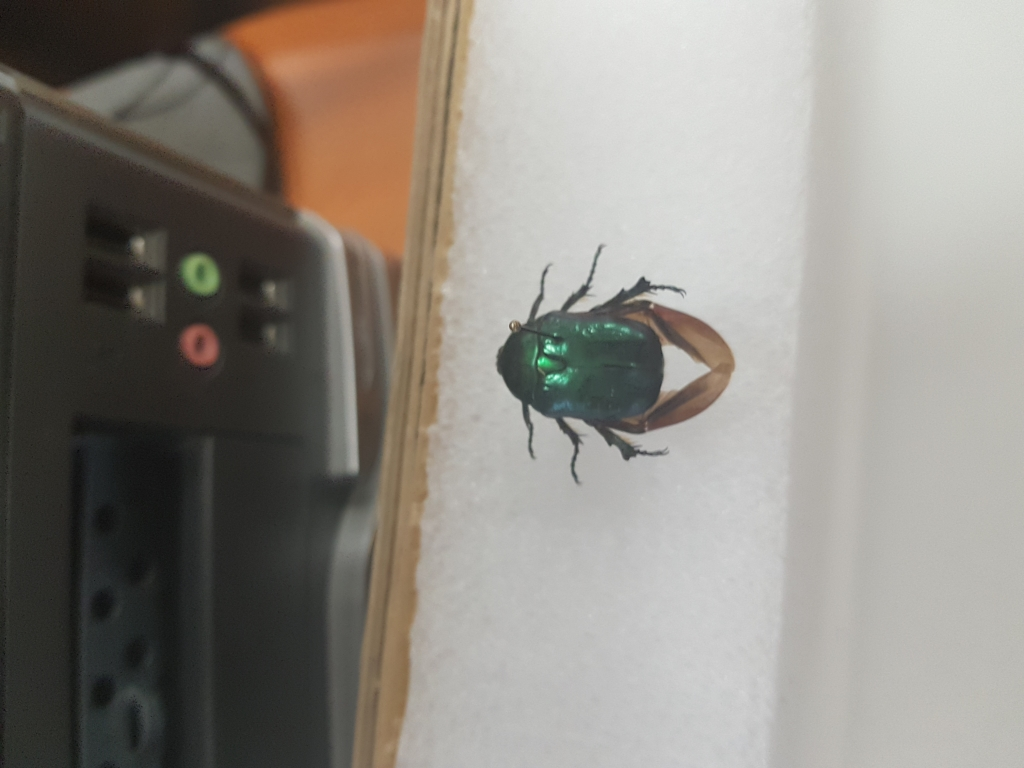Protaetia_angustata_angustata: (495, 237, 740, 488)
